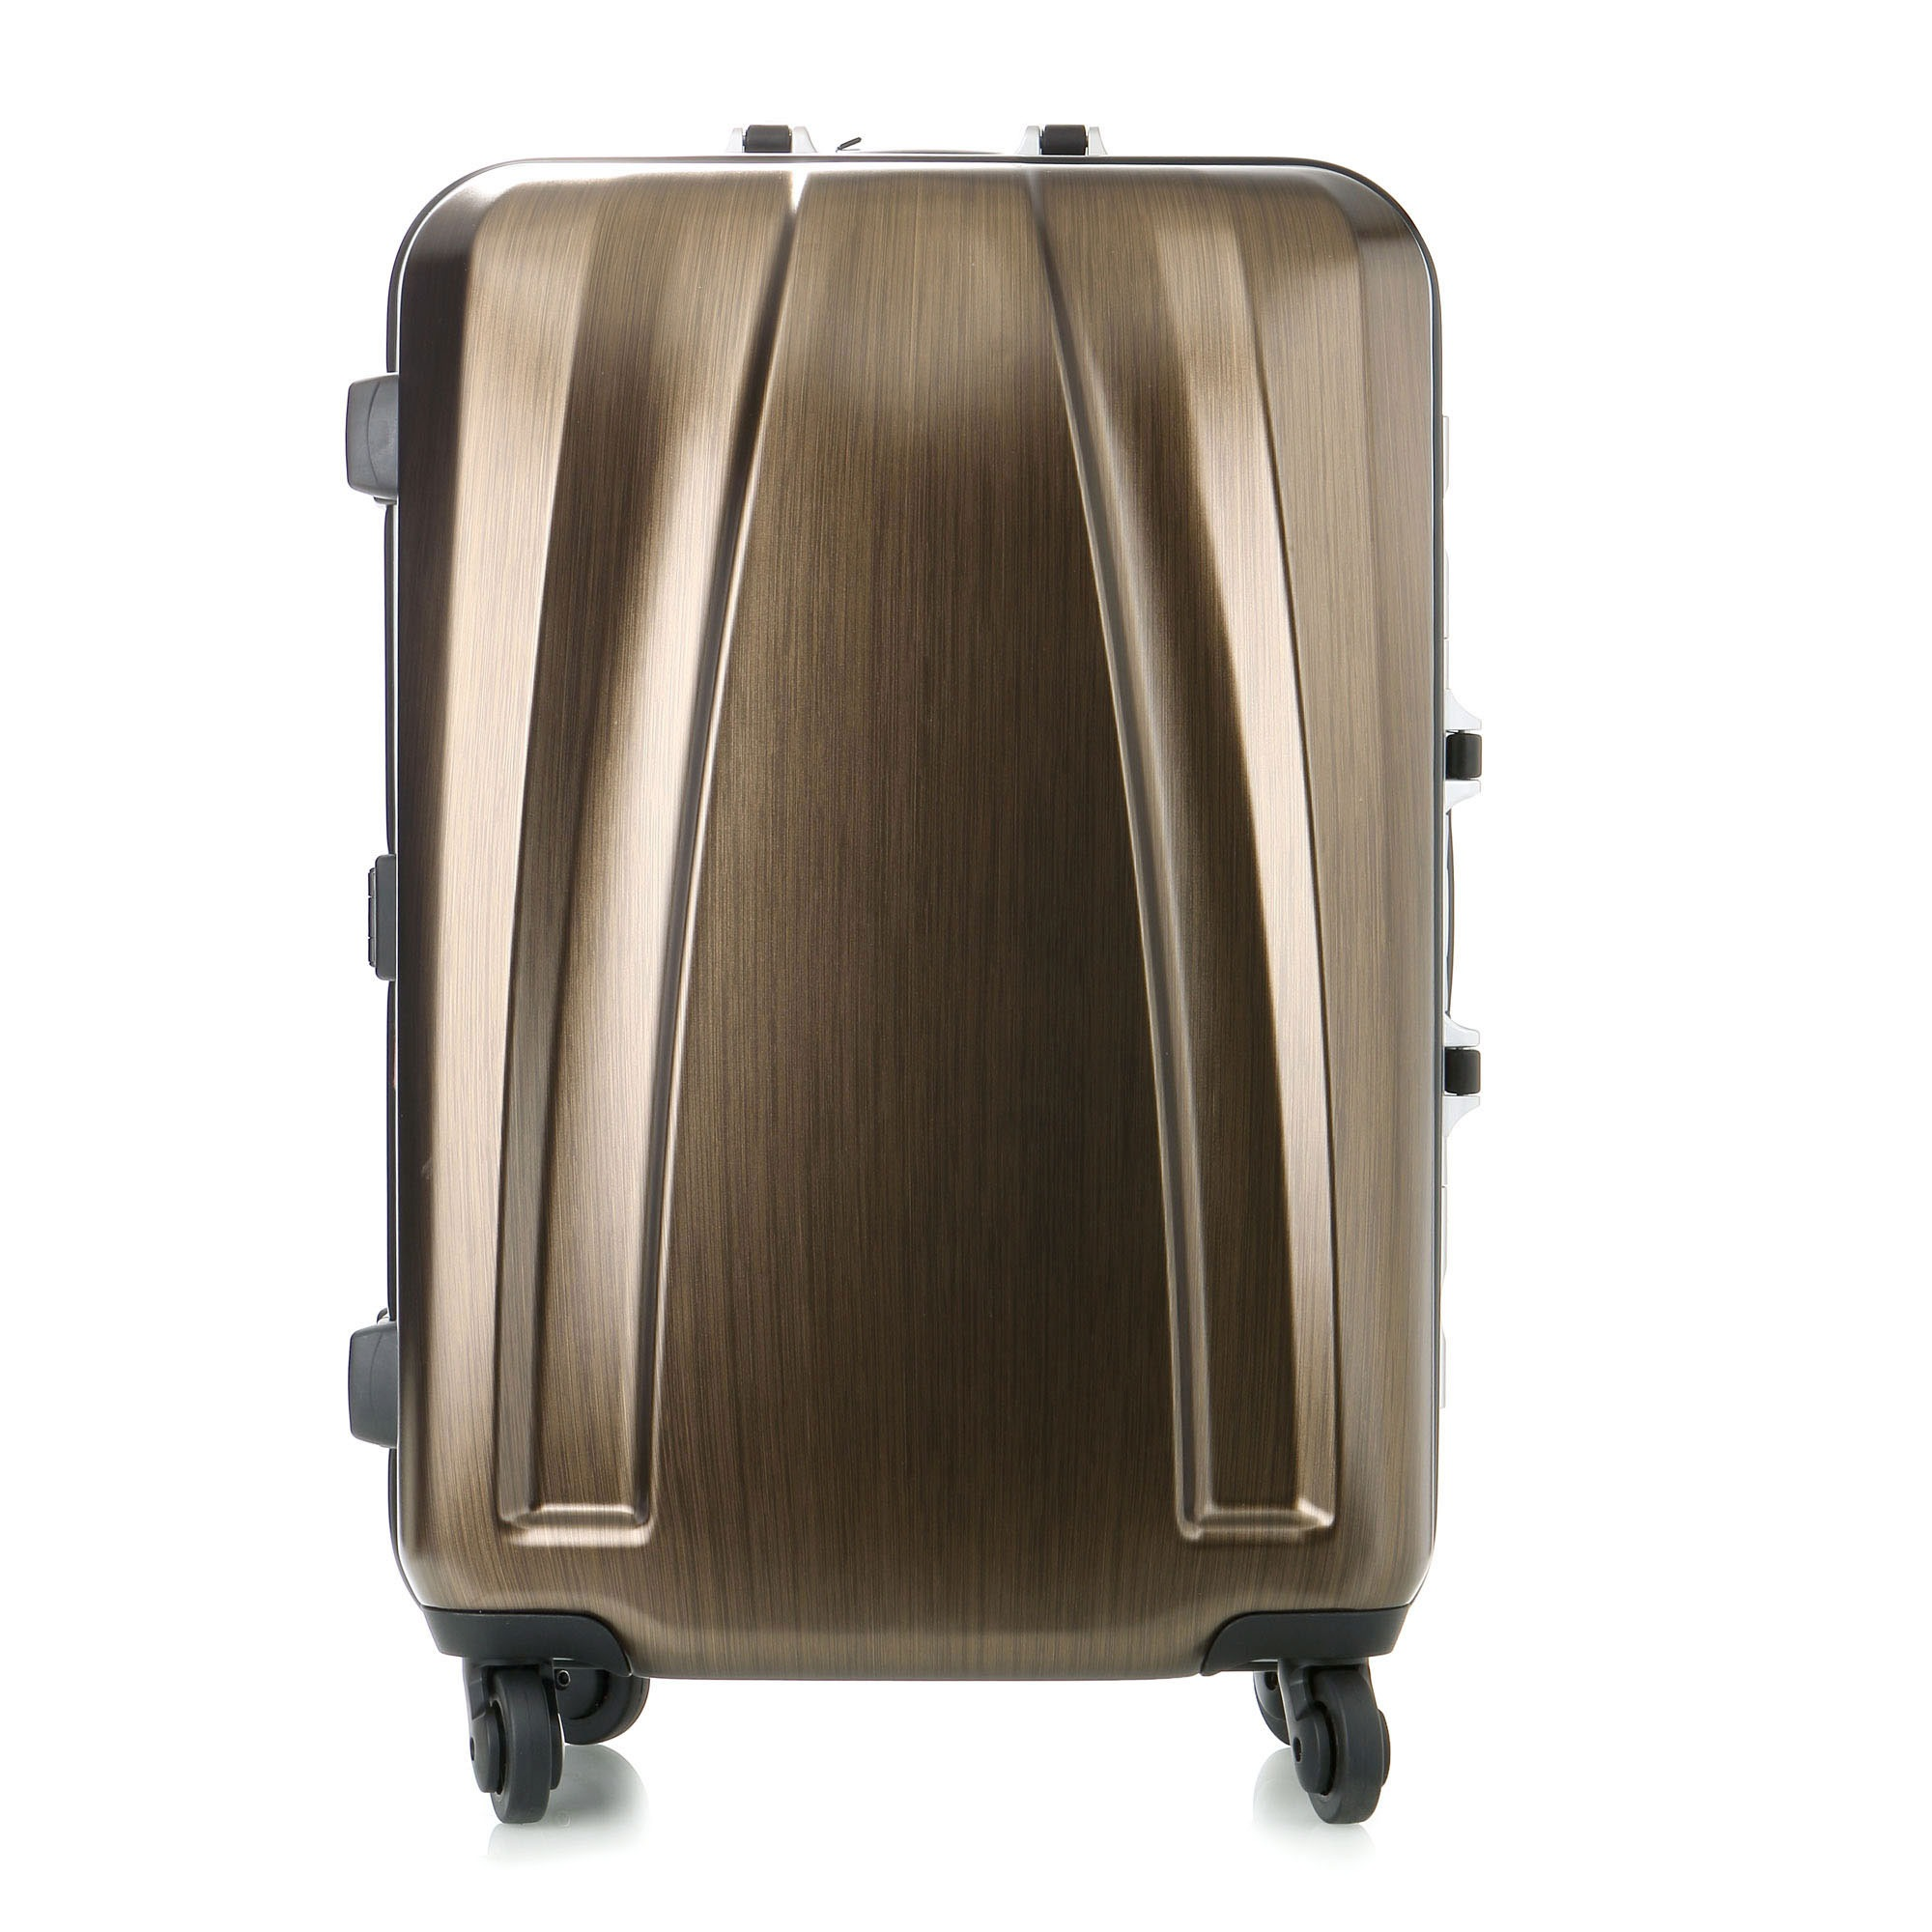luggage: (341, 120, 1486, 1822)
